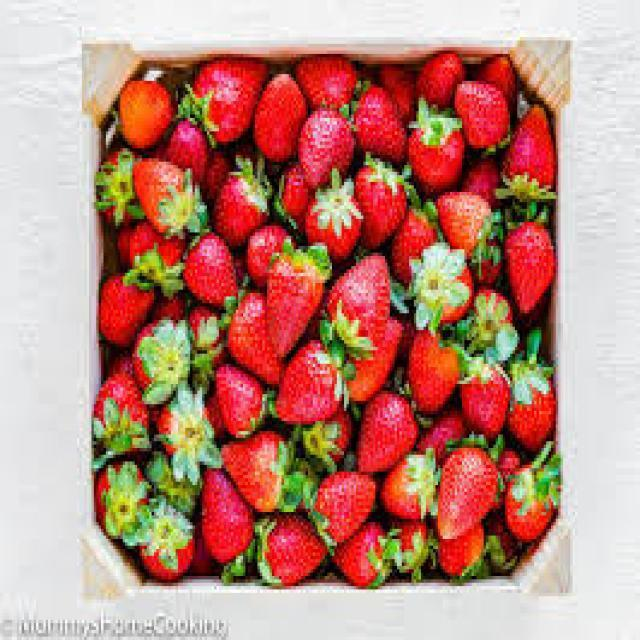Strawberry: (183, 58, 274, 146), (431, 441, 499, 540), (328, 251, 392, 353), (221, 432, 297, 515), (276, 340, 351, 424), (499, 104, 561, 203), (268, 253, 324, 358), (357, 385, 420, 473), (308, 469, 377, 548), (352, 161, 411, 250), (128, 319, 190, 403), (298, 104, 357, 191), (208, 170, 272, 248), (409, 118, 466, 198), (134, 159, 193, 236), (352, 85, 408, 163), (183, 235, 240, 311), (214, 366, 268, 442), (306, 193, 358, 261)
